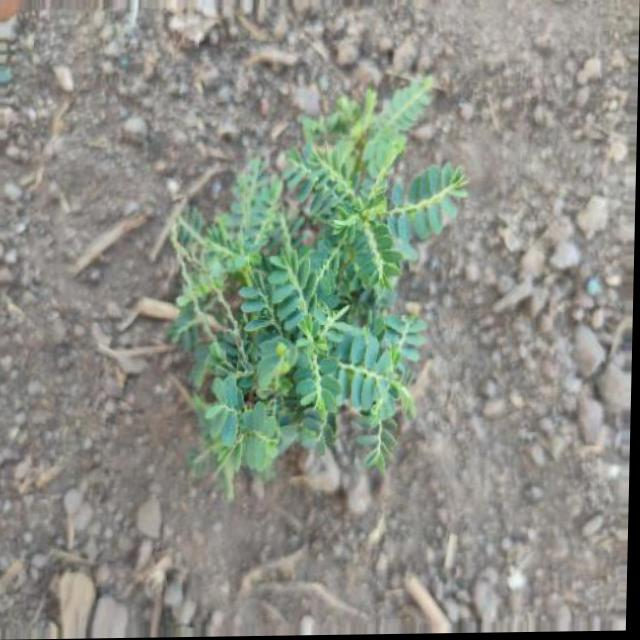weed: (158, 76, 476, 512)
